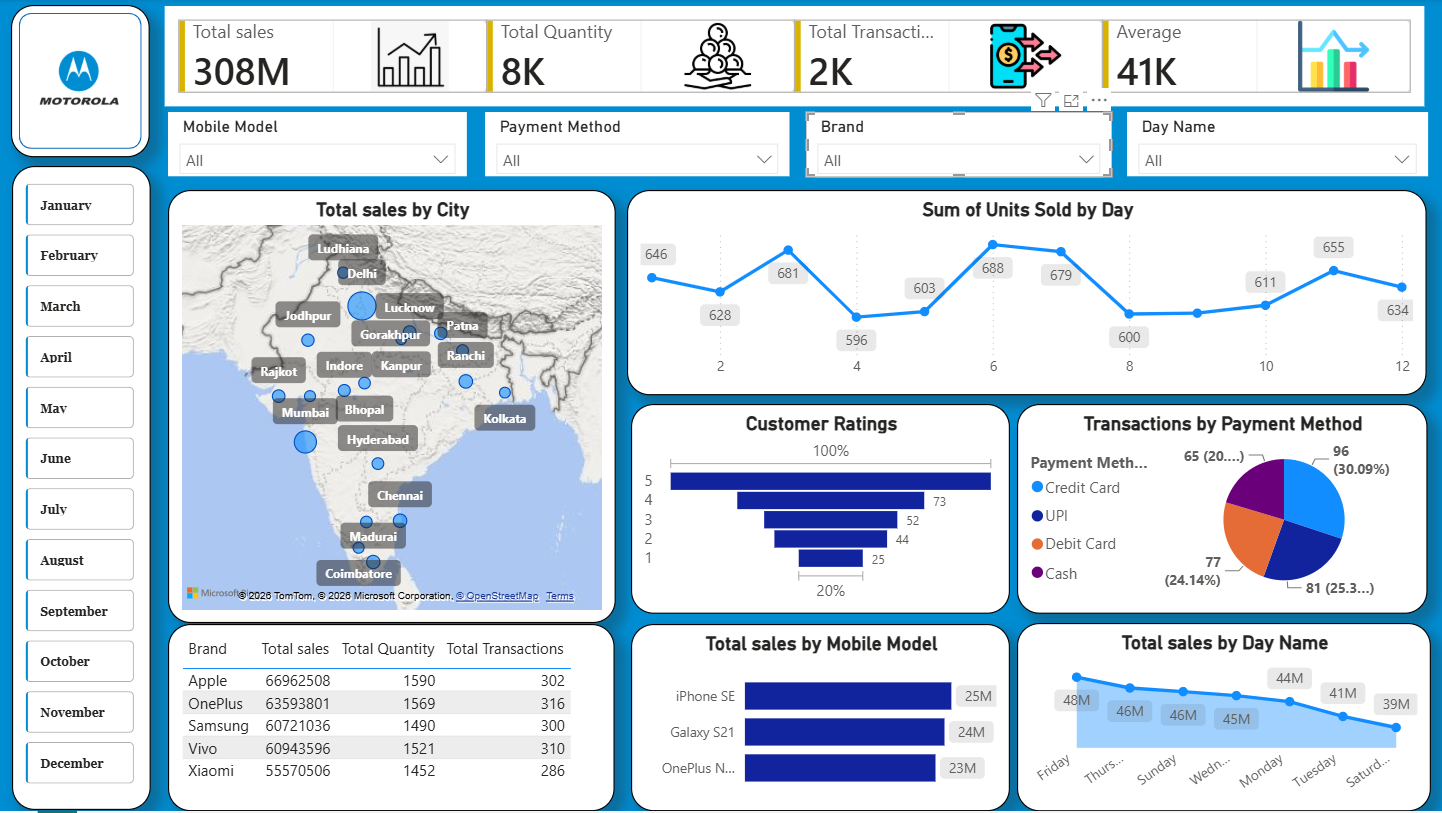

What the dashboard file says about the page in this screenshot:
{"tool":"powerbi","page":{"name":"Page 1","canvas":[1280,720],"ordinal":0},"visuals":[{"type":"shape","box":[10,5.5,122.7,134.5],"z":0},{"type":"image","box":[22.2,17.7,98.4,110],"z":1000},{"type":"shape","box":[10.4,148,123,571.2],"z":2000},{"type":"advancedSlicerVisual","fields":{"Values":["Sheet1.Date.Variation.Date Hierarchy.Month"]},"box":[17.5,158.5,106,550.5],"z":3000},{"type":"cardVisual","fields":{"Data":["Sales_Data.Total sales","Sales_Data.Total Quantity","Sales_Data.Total Transactions","Sales_Data.Average"]},"box":[141,5.8,1127.3,94.3],"z":4000},{"type":"map","fields":{"Category":["Sales_Data.City"],"Size":["Sales_Data.Total sales"]},"box":[148.8,169.2,396.8,384.2],"z":5000},{"type":"lineChart","fields":{"Y":["Sum(Sales_Data.Units Sold)"],"Category":["Sales_Data.Date.Variation.Date Hierarchy.Month","Sales_Data.Date.Variation.Date Hierarchy.Day"]},"box":[556.4,169.2,709.1,181.9],"z":6000},{"type":"clusteredBarChart","fields":{"Category":["Sales_Data.Mobile Model"],"Y":["Sales_Data.Total sales"]},"box":[559.5,554.2,336.1,165.8],"z":7000},{"type":"pieChart","fields":{"Category":["Sales_Data.Payment Method"],"Y":["Sales_Data.Total Transactions"]},"box":[901.8,359.1,363.5,186.2],"z":8000},{"type":"funnel","title":"Customer Ratings ","fields":{"Category":["Sales_Data.Customer Ratings"],"Y":["CountNonNull(Sales_Data.Customer Ratings)"]},"box":[559.5,359.1,336.1,186.2],"z":9000},{"type":"areaChart","fields":{"Category":["Sales_Data.Day Name"],"Y":["Sales_Data.Total sales"]},"box":[901.8,553.3,367.1,166.7],"z":10000},{"type":"tableEx","fields":{"Values":["Sales_Data.Brand","Sales_Data.Total sales","Sales_Data.Total Quantity","Sales_Data.Total Transactions"]},"box":[149.2,553.9,396.1,166.5],"z":11000},{"type":"slicer","fields":{"Values":["Sales_Data.Mobile Model"]},"box":[148.8,100.2,264.6,57.4],"z":12000},{"type":"slicer","fields":{"Values":["Sales_Data.Day Name"]},"box":[998.9,100.2,266.5,57.4],"z":13000},{"type":"slicer","fields":{"Values":["Sales_Data.Brand"]},"box":[714.7,100.2,271.3,57.6],"z":14000},{"type":"slicer","fields":{"Values":["Sales_Data.Payment Method"]},"box":[429.9,100.2,270.4,57.4],"z":15000}]}

Visuals, with their boxes in screenshot pixels (x1, y1, x2, y2), scaled from the page's 1280x720 canvas onto the 1442x813 screenshot:
shape: box=[11, 6, 149, 158]
image: box=[25, 20, 136, 144]
shape: box=[12, 167, 150, 812]
advancedSlicerVisual - Sheet1.Date.Variation.Date Hierarchy.Month: box=[20, 179, 139, 801]
cardVisual - Sales_Data.Total sales x Sales_Data.Total Quantity: box=[159, 7, 1429, 113]
map - Sales_Data.City x Sales_Data.Total sales: box=[168, 191, 615, 625]
lineChart - Sum(Sales_Data.Units Sold) x Sales_Data.Date.Variation.Date Hierarchy.Month: box=[627, 191, 1426, 396]
clusteredBarChart - Sales_Data.Mobile Model x Sales_Data.Total sales: box=[630, 626, 1009, 812]
pieChart - Sales_Data.Payment Method x Sales_Data.Total Transactions: box=[1016, 405, 1425, 616]
"Customer Ratings " funnel: box=[630, 405, 1009, 616]
areaChart - Sales_Data.Day Name x Sales_Data.Total sales: box=[1016, 625, 1429, 812]
tableEx - Sales_Data.Brand x Sales_Data.Total sales: box=[168, 625, 614, 812]
slicer - Sales_Data.Mobile Model: box=[168, 113, 466, 178]
slicer - Sales_Data.Day Name: box=[1125, 113, 1426, 178]
slicer - Sales_Data.Brand: box=[805, 113, 1111, 178]
slicer - Sales_Data.Payment Method: box=[484, 113, 789, 178]
